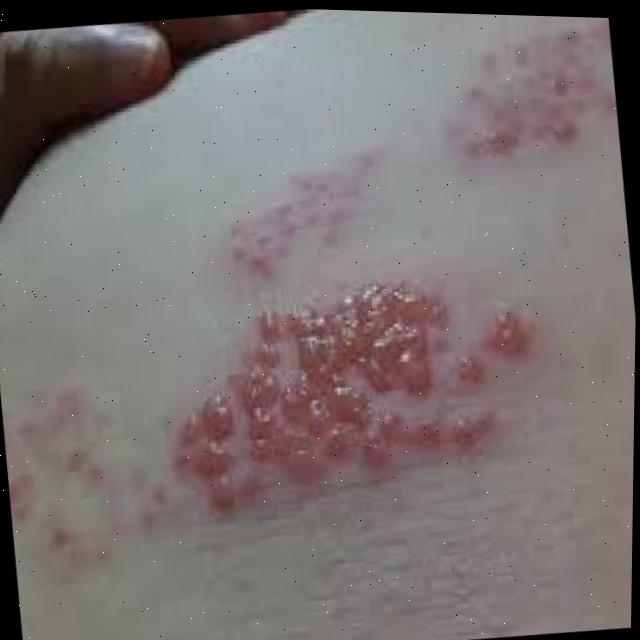Shingles: (148, 263, 545, 531), (0, 366, 173, 565), (206, 135, 390, 294), (440, 13, 621, 159)
